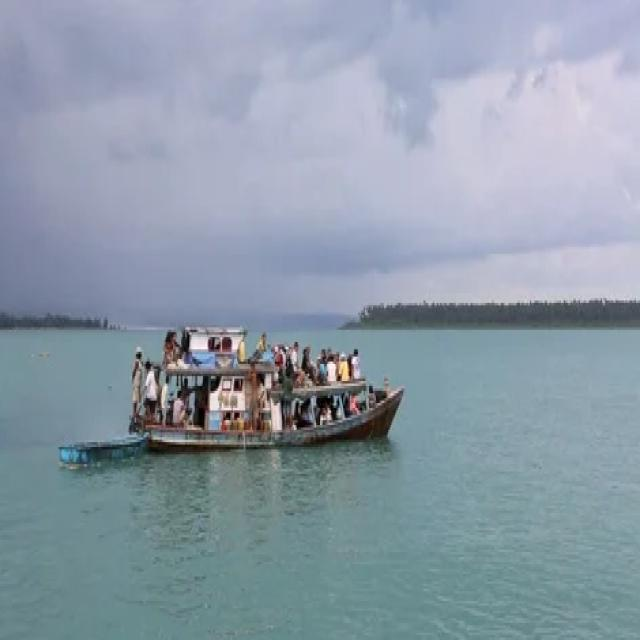passenger ship: (132, 302, 409, 478)
